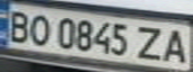0: (51, 15, 78, 51)
4: (90, 19, 115, 55)
5: (109, 19, 136, 57)
8: (72, 17, 93, 53)
A: (160, 26, 193, 64)
B: (3, 7, 33, 43)
O: (24, 11, 54, 46)
Z: (133, 24, 169, 62)
